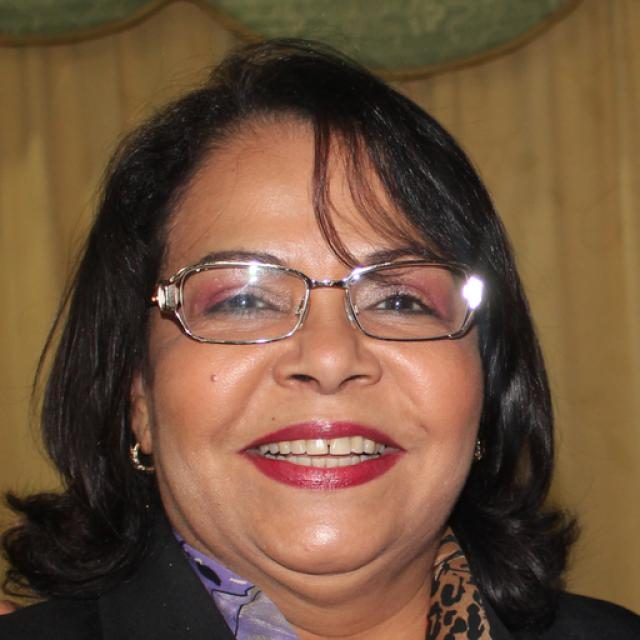Acne: (201, 372, 225, 388)
